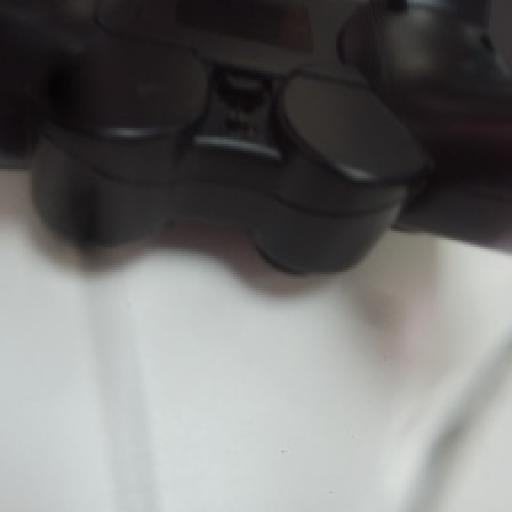game pad: (0, 0, 510, 272)
